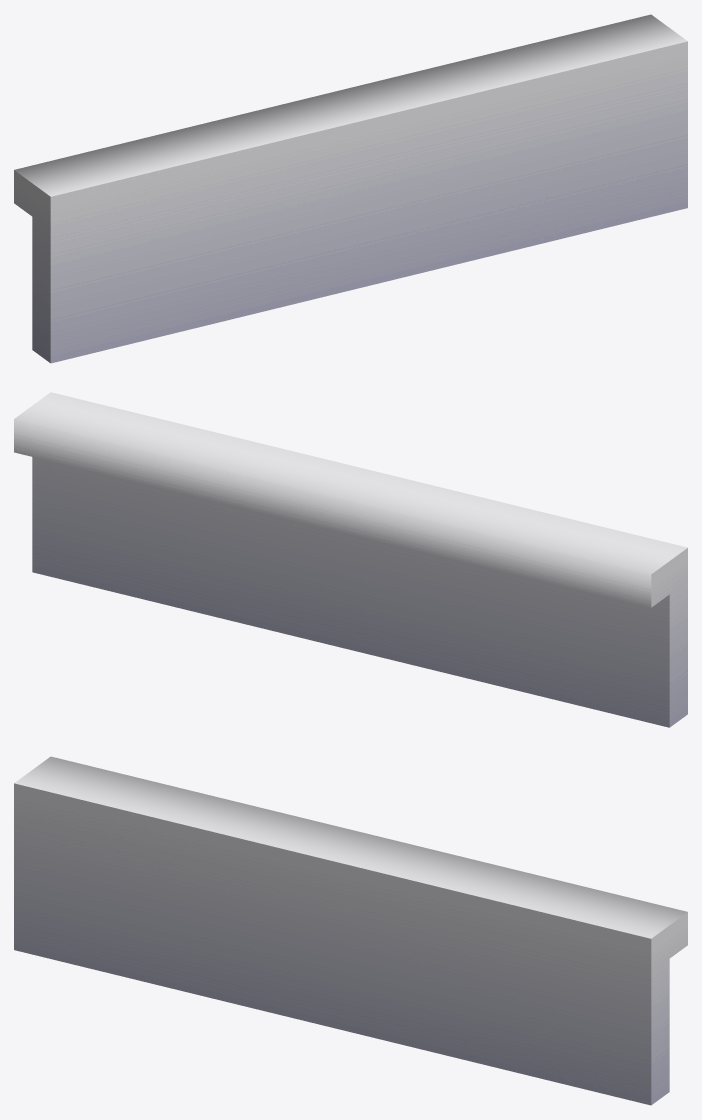
Rendered from Living_PlaypenRail.glb.
The picture shows the model from 3 angles, top to bottom: view 1: azimuth 30°, elevation 25°; view 2: azimuth 150°, elevation 25°; view 3: azimuth 330°, elevation 25°; orthographic projection.
Parts seen in each view (by area): view 1: Living_PlaypenRail; view 2: Living_PlaypenRail; view 3: Living_PlaypenRail.
Boxes of the visible parts, box(x1,y1,x2,y2) form: Living_PlaypenRail: box(14, 14, 687, 363); Living_PlaypenRail: box(14, 392, 687, 727); Living_PlaypenRail: box(14, 756, 687, 1105).
Bounding box in the file's own units: 2 × 0.5 × 0.2.
1 material, 1 textured.
